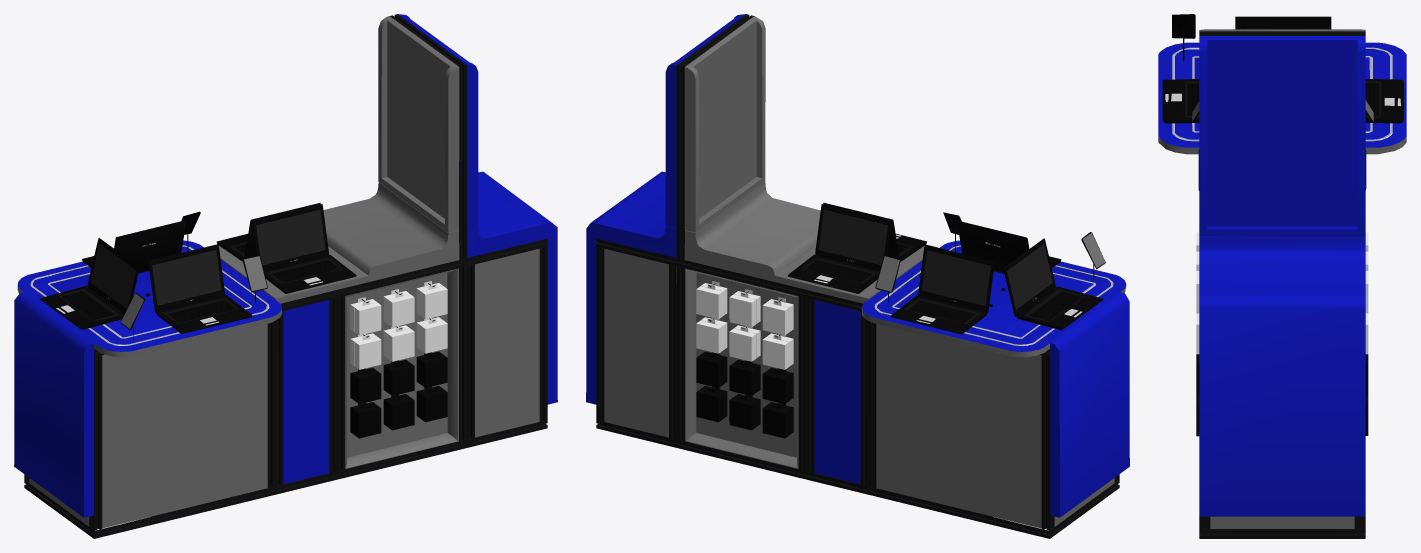
3 views of the same model, side by side, from view 1: azimuth 30°, elevation 25°; view 2: azimuth 150°, elevation 25°; view 3: azimuth 270°, elevation 25° (orthographic). The views are drawn at different scales.
Visible parts, largest first — view 1: vm_v3_059_mall_island; view 2: vm_v3_059_mall_island; view 3: vm_v3_059_mall_island.
Boxes of the visible parts, box(x1,y1,x2,y2) form: vm_v3_059_mall_island: box(14, 14, 557, 538); vm_v3_059_mall_island: box(586, 14, 1129, 538); vm_v3_059_mall_island: box(1158, 14, 1406, 538).
Bounding box in the file's own units: 253 × 195 × 96.29.
